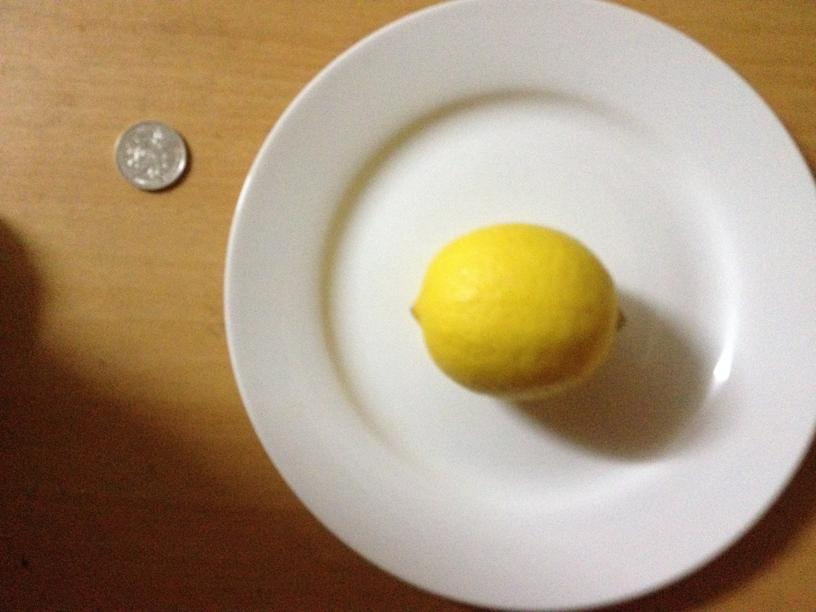coin: (112, 120, 191, 192)
lemon: (406, 223, 621, 402)
